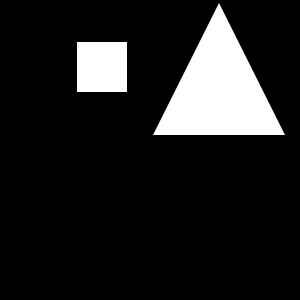circle: (77, 42, 127, 92)
triangle: (153, 3, 285, 135)
